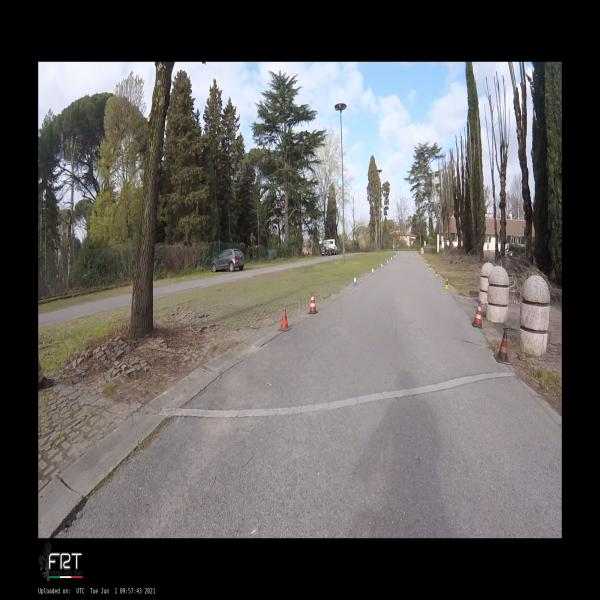blue_cone: (354, 276, 357, 285), (372, 268, 374, 273), (381, 263, 383, 268), (387, 260, 389, 264)
large_orange_cone: (494, 329, 510, 364), (278, 307, 291, 331), (472, 301, 483, 329), (308, 292, 318, 314)
yellow_cone: (444, 278, 449, 289), (435, 268, 438, 277), (429, 264, 431, 270), (423, 257, 425, 261), (426, 261, 427, 265)
